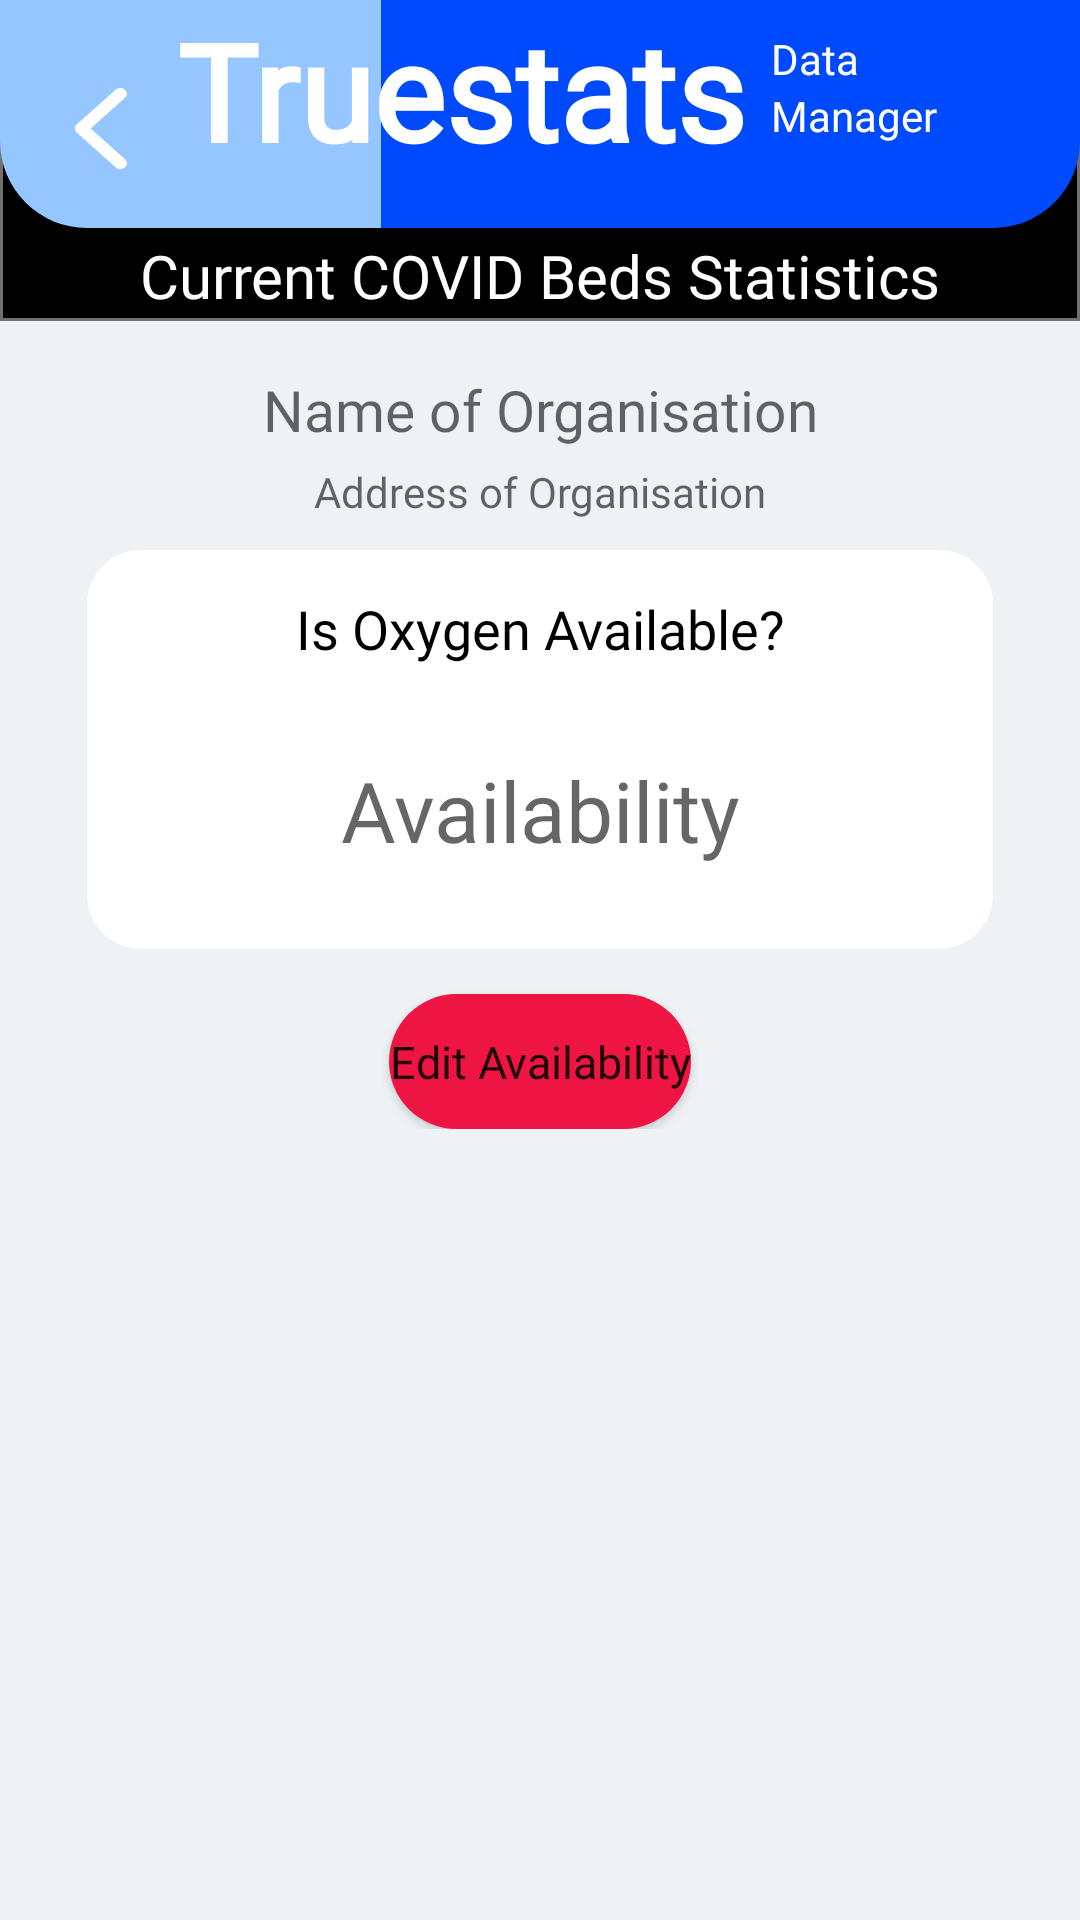

Icon bounding boxes for this 1080×1920 phone screenshot, format (x1, y1, x2, y2):
back: (75, 88, 127, 169)
